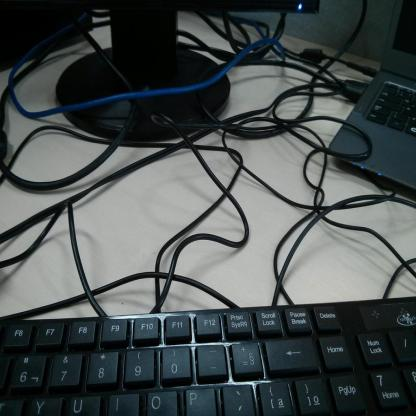board: (329, 0, 416, 198)
